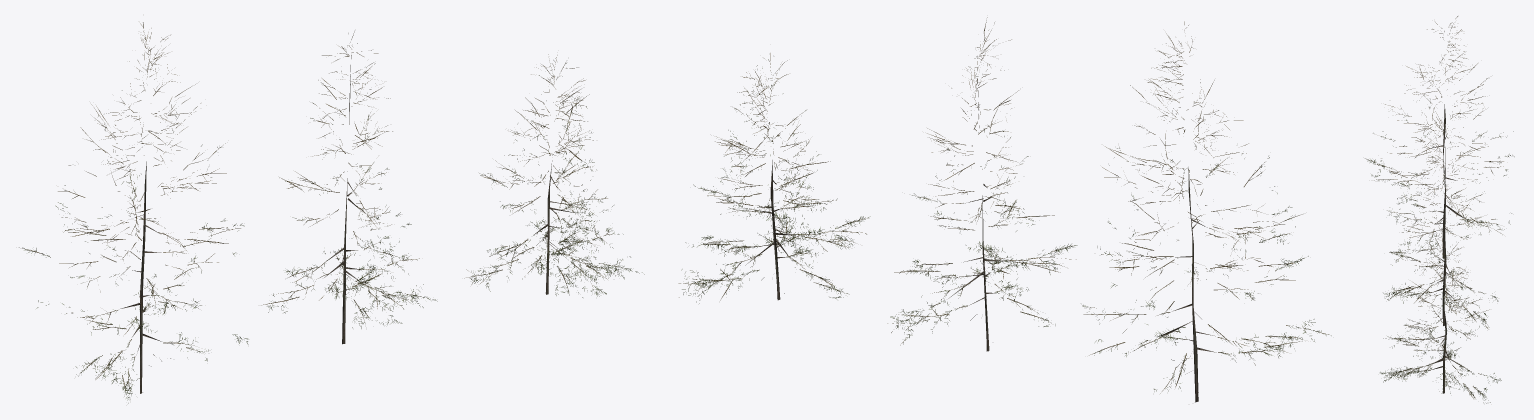
The model's file is conifer-01.glb.
The picture shows the model from 3 angles, left to right: view 1: azimuth 30°, elevation 25°; view 2: azimuth 150°, elevation 25°; view 3: azimuth 270°, elevation 25°; orthographic projection. The views are drawn at different scales.
Visible parts, largest first — view 1: fir_sapling_medium_a_LOD0; view 2: fir_sapling_medium_a_LOD0; view 3: fir_sapling_medium_a_LOD0.
Boxes of the visible parts, bbox=[...] form: fir_sapling_medium_a_LOD0: bbox=[19, 22, 644, 403]; fir_sapling_medium_a_LOD0: bbox=[678, 17, 1331, 402]; fir_sapling_medium_a_LOD0: bbox=[1365, 16, 1514, 403].
Size of the model in its own units: 14.51 by 8.7 by 4.93.
3 materials, 3 textured.
